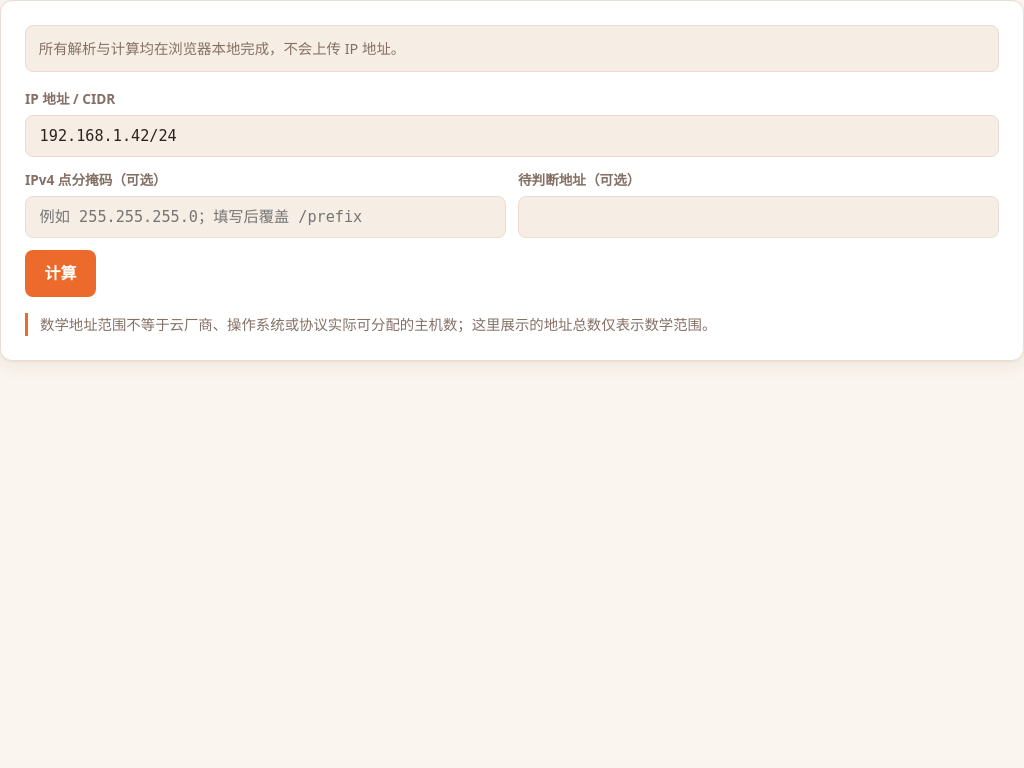
Test: lets an optional dotted mask override the CIDR prefix
Replace the text in the field labelled "IP 地址 / CIDR" with "192.168.1.42/32" at (512, 136), box [25,115,999,157]
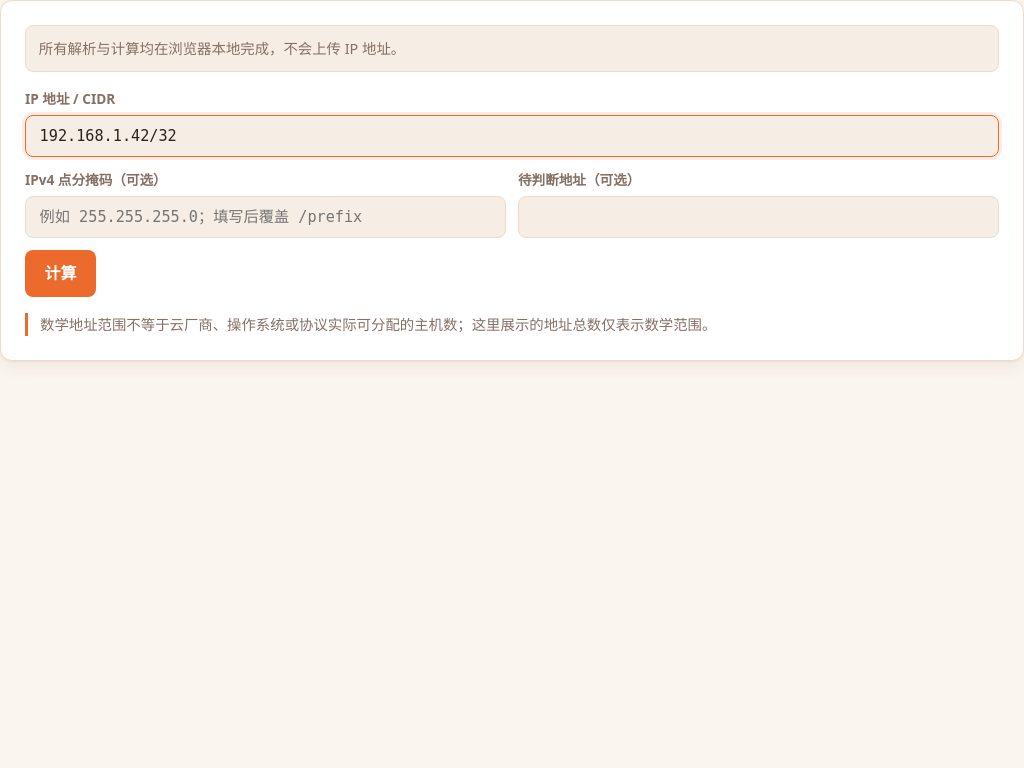
Type "255.255.255.0" into the field labelled "IPv4 点分掩码（可选）" at (266, 217), box [25,196,506,238]
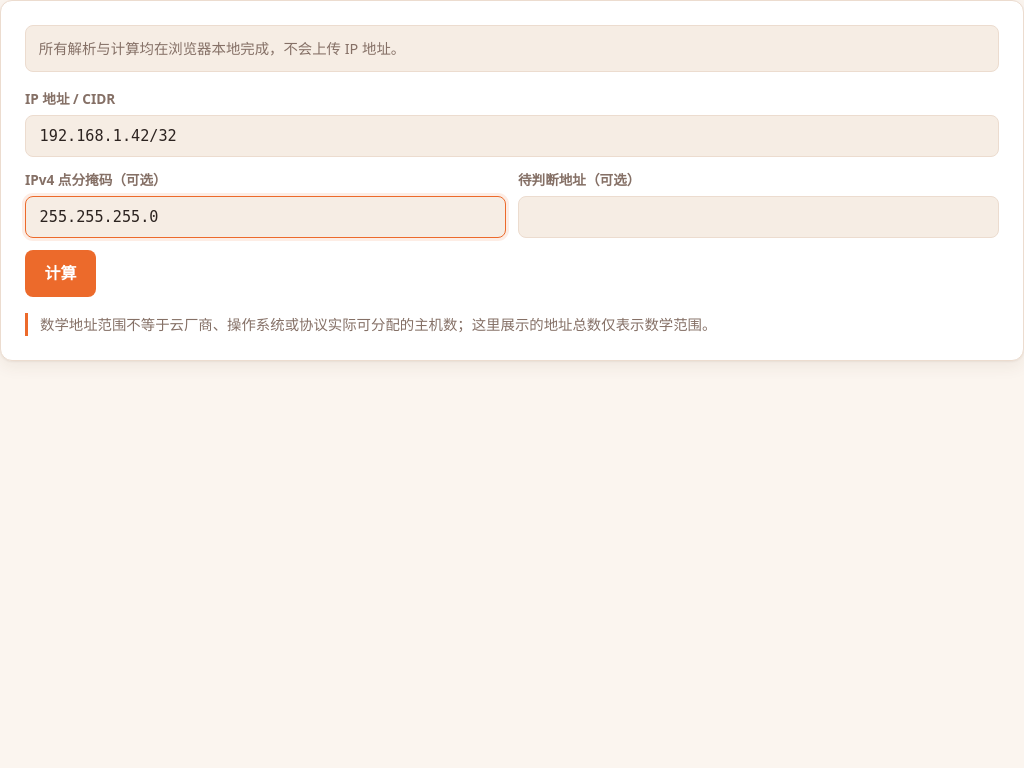
Click the button "计算" at (60, 274), box [25,250,96,297]
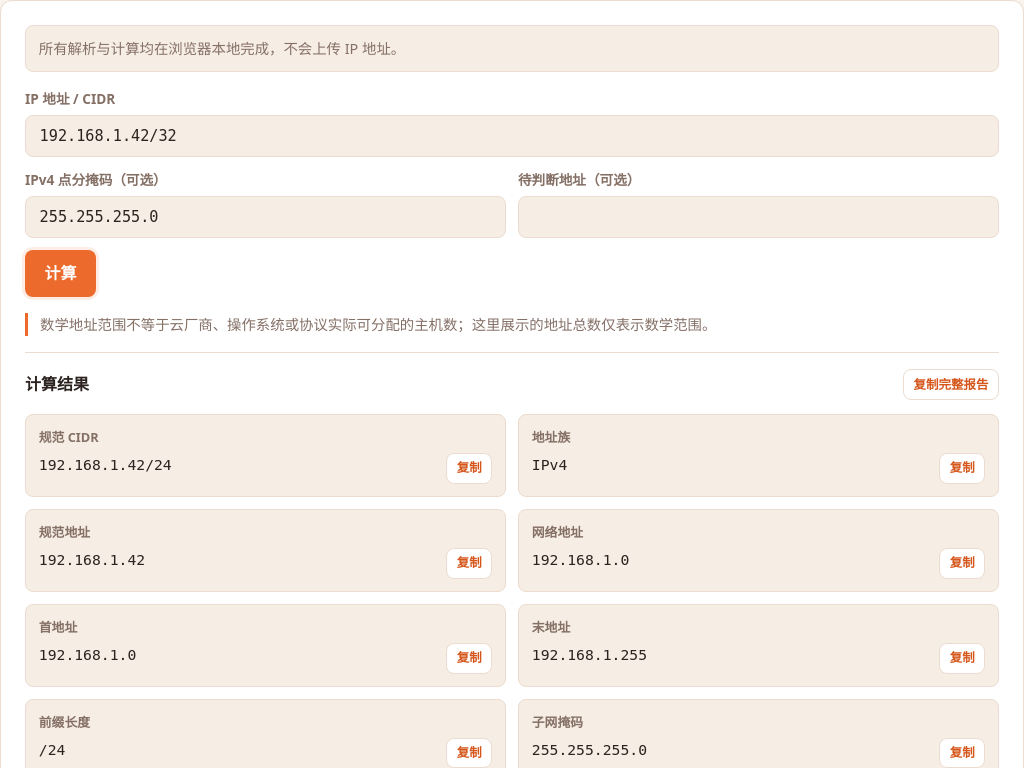
Expected: the text named "规范 CIDR" reads "192.168.1.42/24", [39,456,172,473]
Expected: the text named "子网掩码" reads "255.255.255.0", [532,741,647,758]
